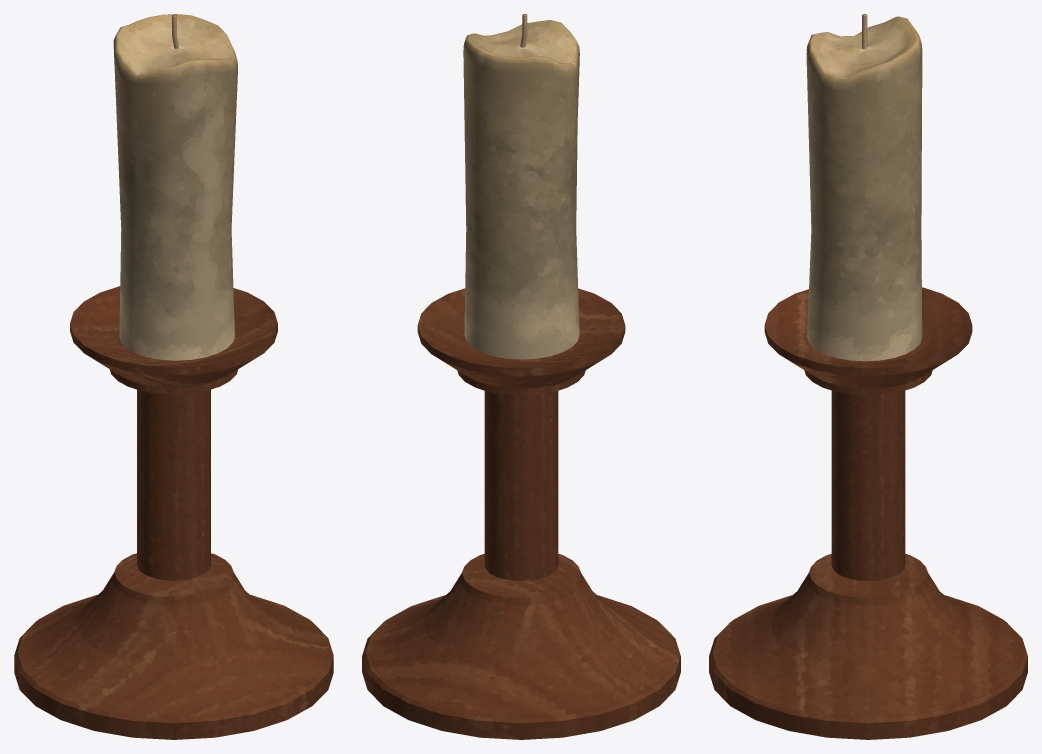
Rendered from SM_Candle.fbx.
3 views of the same model, side by side, from view 1: azimuth 30°, elevation 25°; view 2: azimuth 150°, elevation 25°; view 3: azimuth 270°, elevation 25° (orthographic).
Parts seen in each view (by area): view 1: SM_Candle_LOD0; view 2: SM_Candle_LOD0; view 3: SM_Candle_LOD0.
Part boxes in pixels (x1,y1,x2,y2): SM_Candle_LOD0: (14,14,333,739); SM_Candle_LOD0: (362,14,680,739); SM_Candle_LOD0: (709,14,1027,739).
Size of the model in its own units: 16.49 by 16.49 by 37.49.
Materials: 1 (1 with a texture image).
